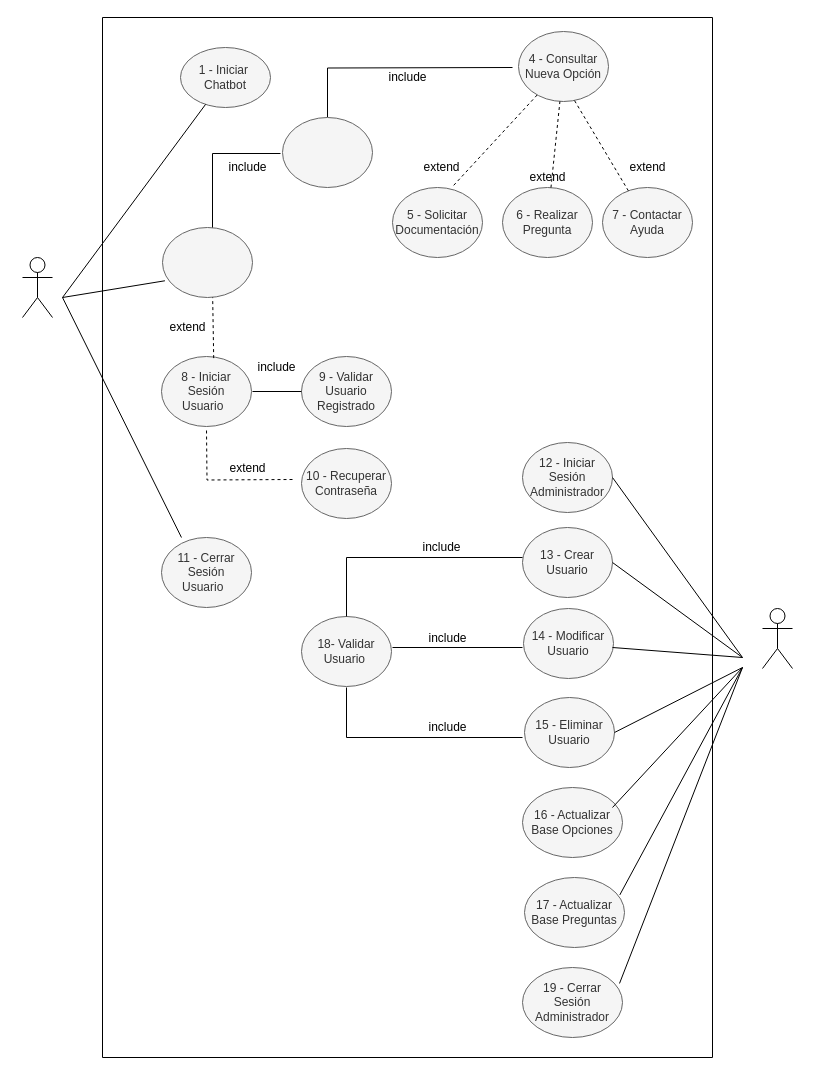
The diagram is 832 pixels wide and 1075 high, and some of its shapes have lost their labels. The box of each missing label's shape, as (x1, y1, x2, y2) in pixels:
2 - Consultar Información: (162, 226, 252, 298)
3 - Seleccionar Opción: (282, 116, 372, 188)
Administrador: (762, 608, 792, 668)
Usuario: (22, 256, 52, 318)
